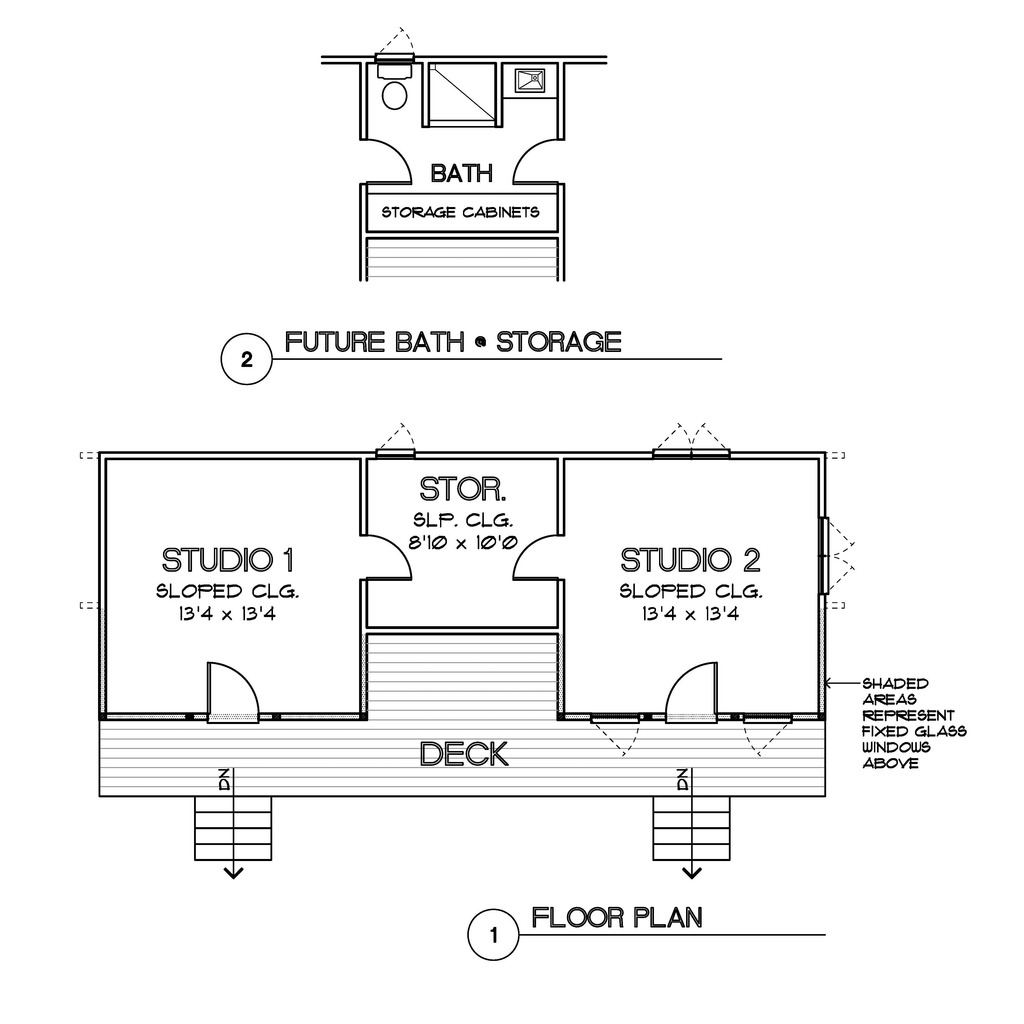door: (203, 650, 264, 723), (665, 659, 721, 723), (361, 131, 418, 192), (510, 530, 564, 587), (509, 136, 563, 189), (361, 534, 415, 586)
large_sink: (372, 58, 417, 111)
small_sink: (503, 66, 553, 100)
stairs: (186, 789, 275, 882), (646, 794, 736, 879)
